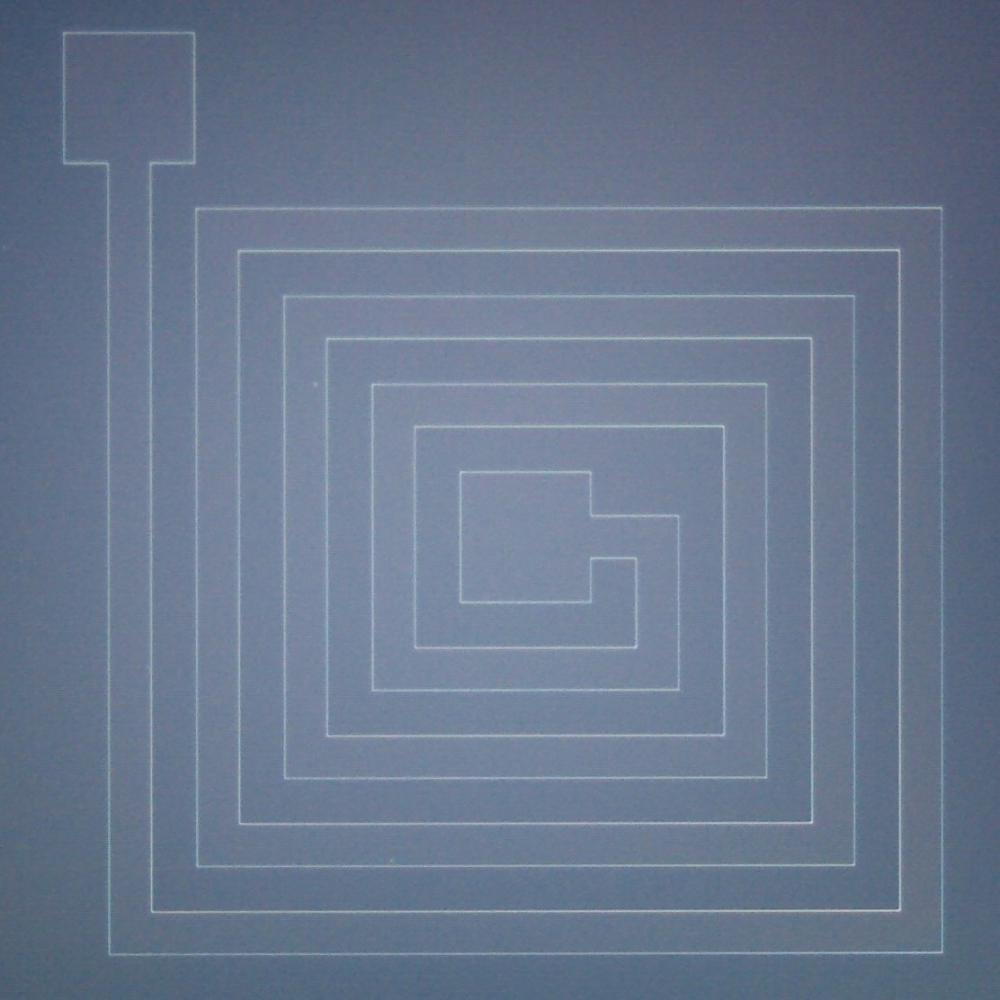dot: (312, 381, 320, 389)
